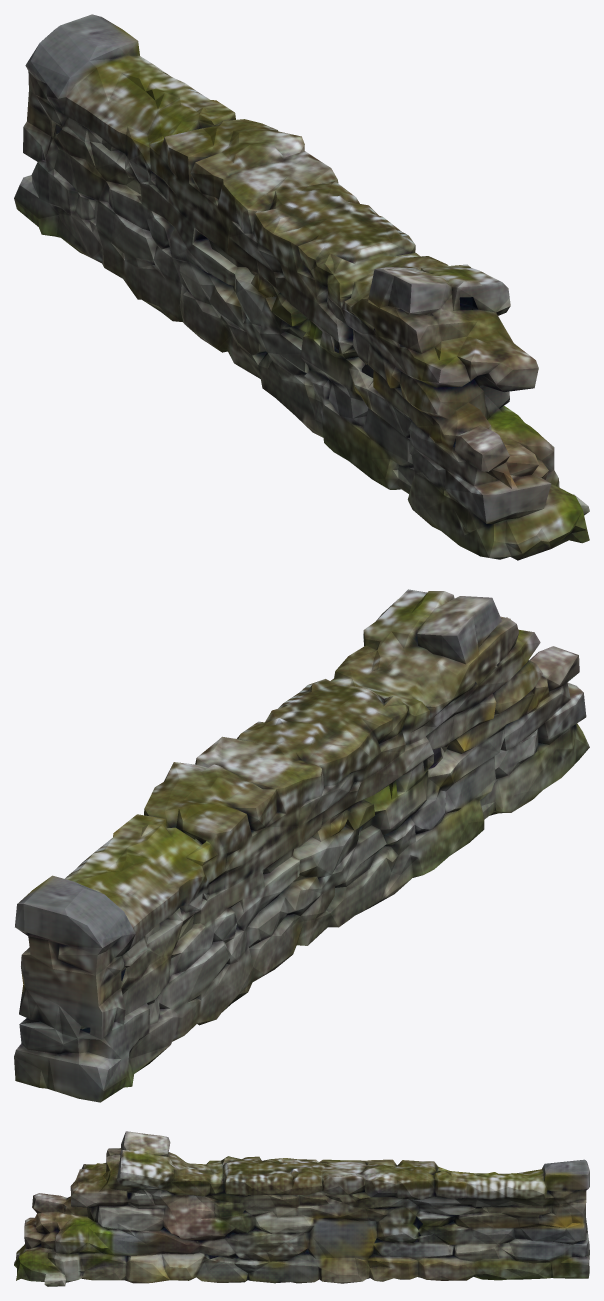
Rendered from wall_b.obj.
3 views of the same model, one above another, from view 1: azimuth 30°, elevation 25°; view 2: azimuth 150°, elevation 25°; view 3: azimuth 270°, elevation 25° (orthographic). The views are drawn at different scales.
Visible parts, largest first — view 1: wall_b; view 2: wall_b; view 3: wall_b.
Boxes of the visible parts, <box> form: wall_b: <box>14,14,589,560</box>; wall_b: <box>14,589,589,1102</box>; wall_b: <box>14,1131,589,1286</box>.
Bounding box in the file's own units: 0.8974 × 1.51 × 6.
1 material, 1 textured.
